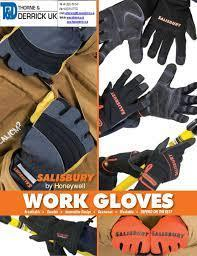gloves: (10, 97, 95, 189), (1, 25, 95, 80), (99, 66, 150, 139), (140, 1, 197, 65), (139, 63, 197, 125), (135, 135, 196, 190), (98, 1, 150, 64), (20, 216, 86, 255), (149, 215, 189, 256), (111, 216, 151, 256), (99, 150, 154, 176)
